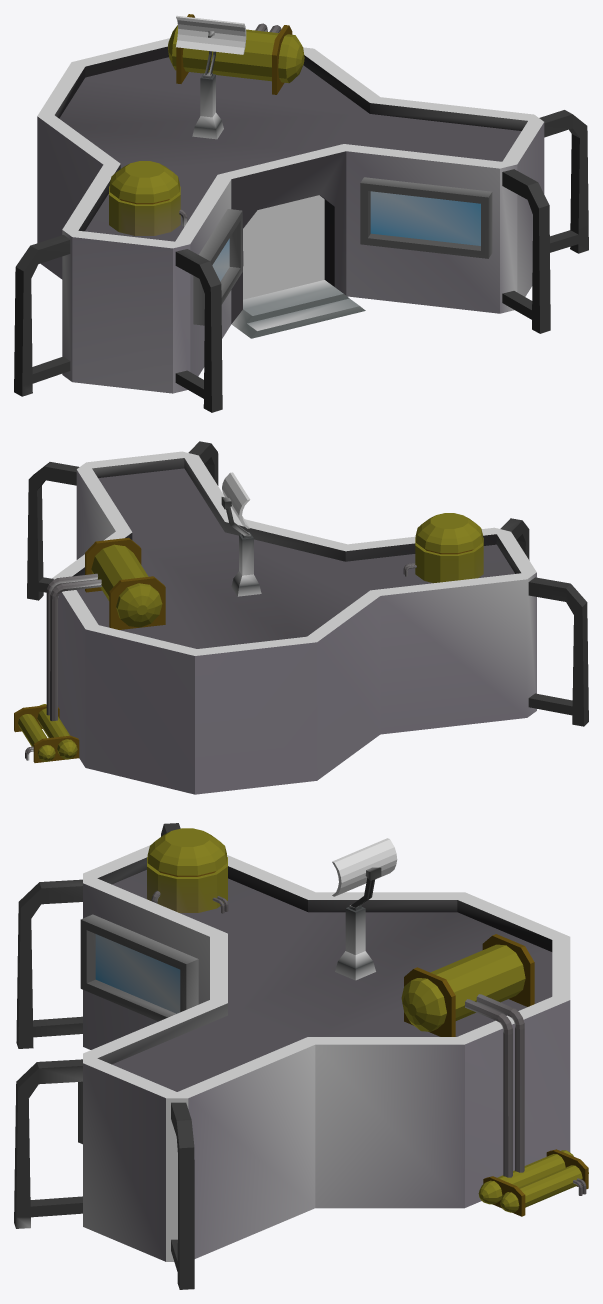
File: edificacao1.fbx
3 views of the same model, one above another, from view 1: azimuth 30°, elevation 25°; view 2: azimuth 150°, elevation 25°; view 3: azimuth 270°, elevation 25° (orthographic). The views are drawn at different scales.
Parts seen in each view (by area): view 1: edificacao1; view 2: edificacao1; view 3: edificacao1.
Part boxes in pixels (bbox=[...]): edificacao1: bbox=[14, 14, 588, 412]; edificacao1: bbox=[14, 441, 588, 794]; edificacao1: bbox=[14, 823, 588, 1289].
Bounding box in the file's own units: 1483 × 600 × 1136.
